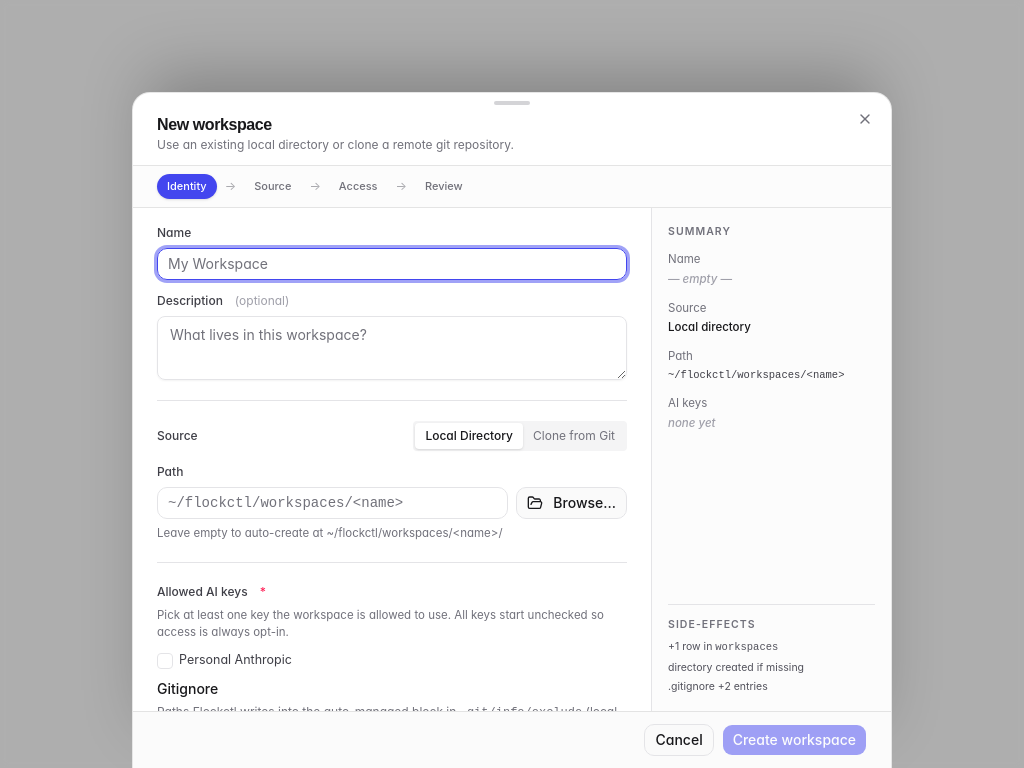
Test case: NewWorkspaceDialog / submit flow › surfaces a form error when mutateAsync rejects and keeps the dialog open
Type "Boom" into the field labelled "Name".
click(392, 264); type("Boom")  # box [157,248,627,280]
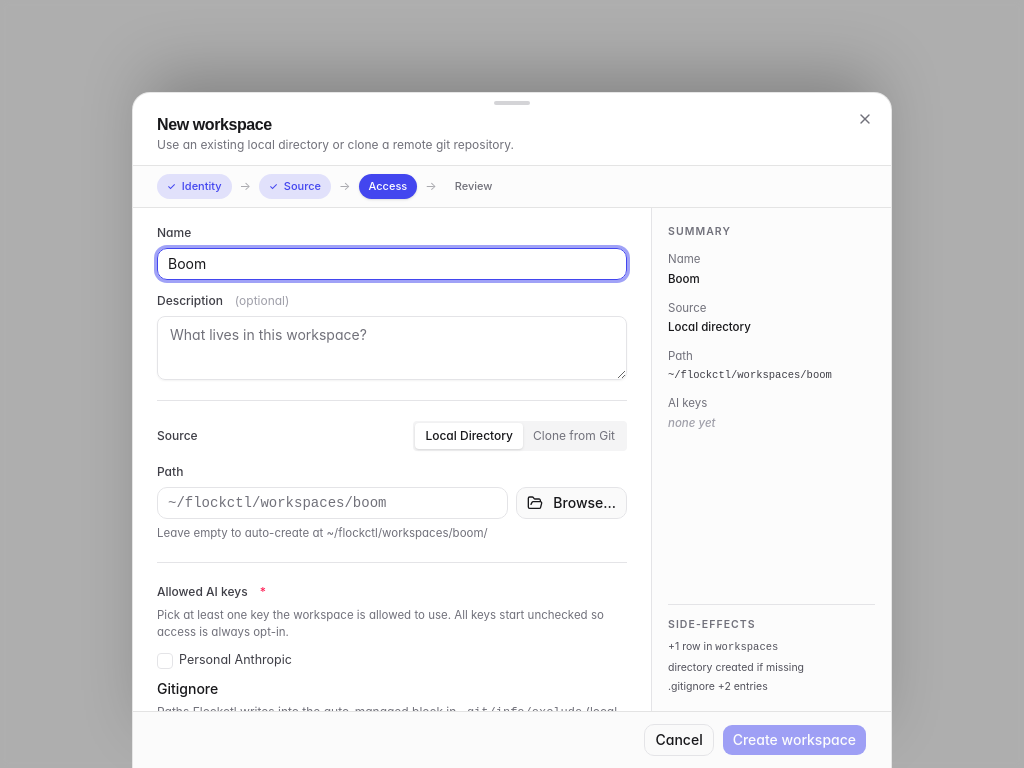
Click the checkbox named "Personal Anthropic".
click(165, 661)  # box [157,653,173,669]
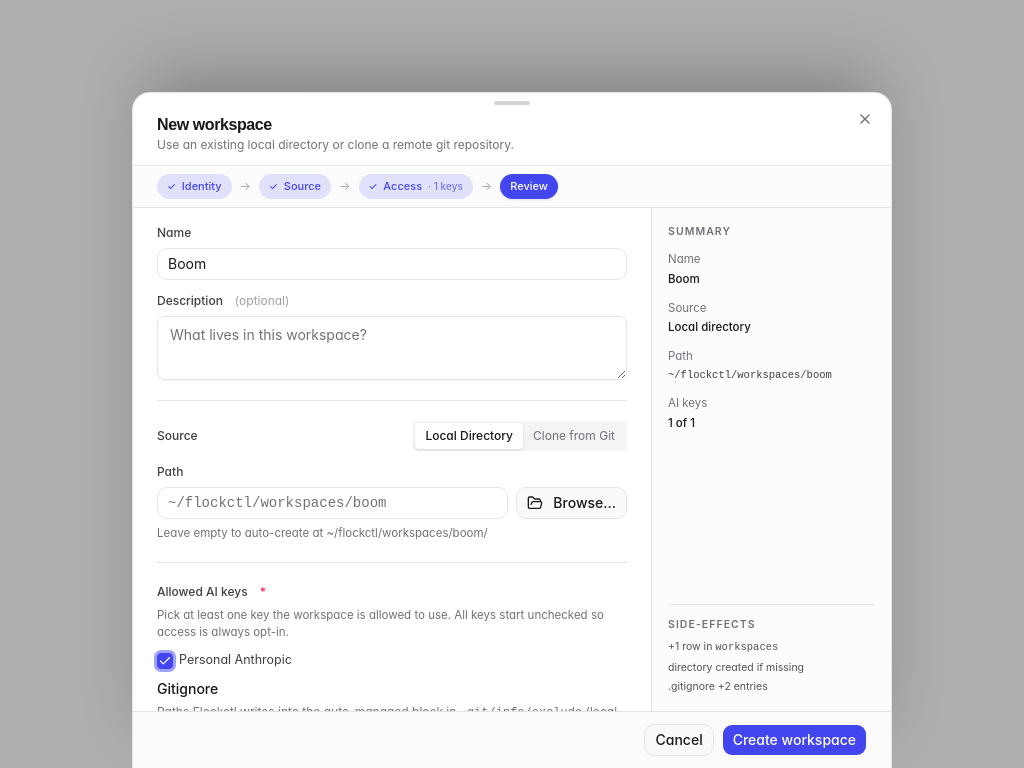
Click the button with test id "cw-submit".
click(794, 740)  # box [722,724,867,756]
(page scrolled)
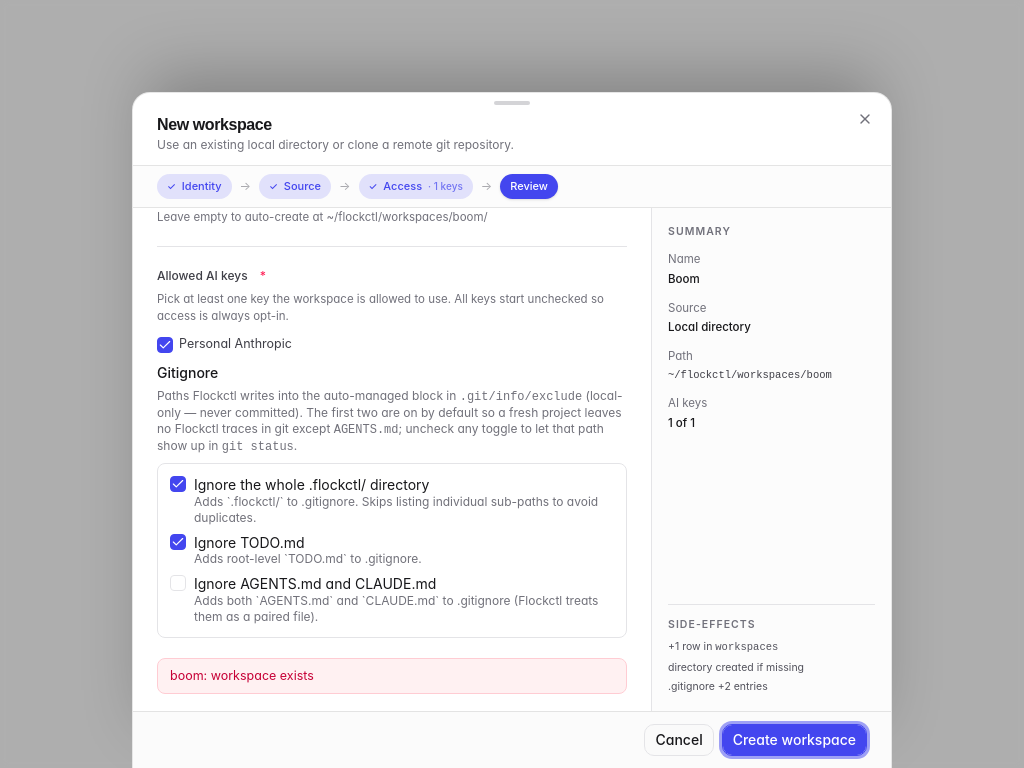
Expected: the message with test id "cw-form-error" reads "boom: workspace exists", [170,668,314,683]
